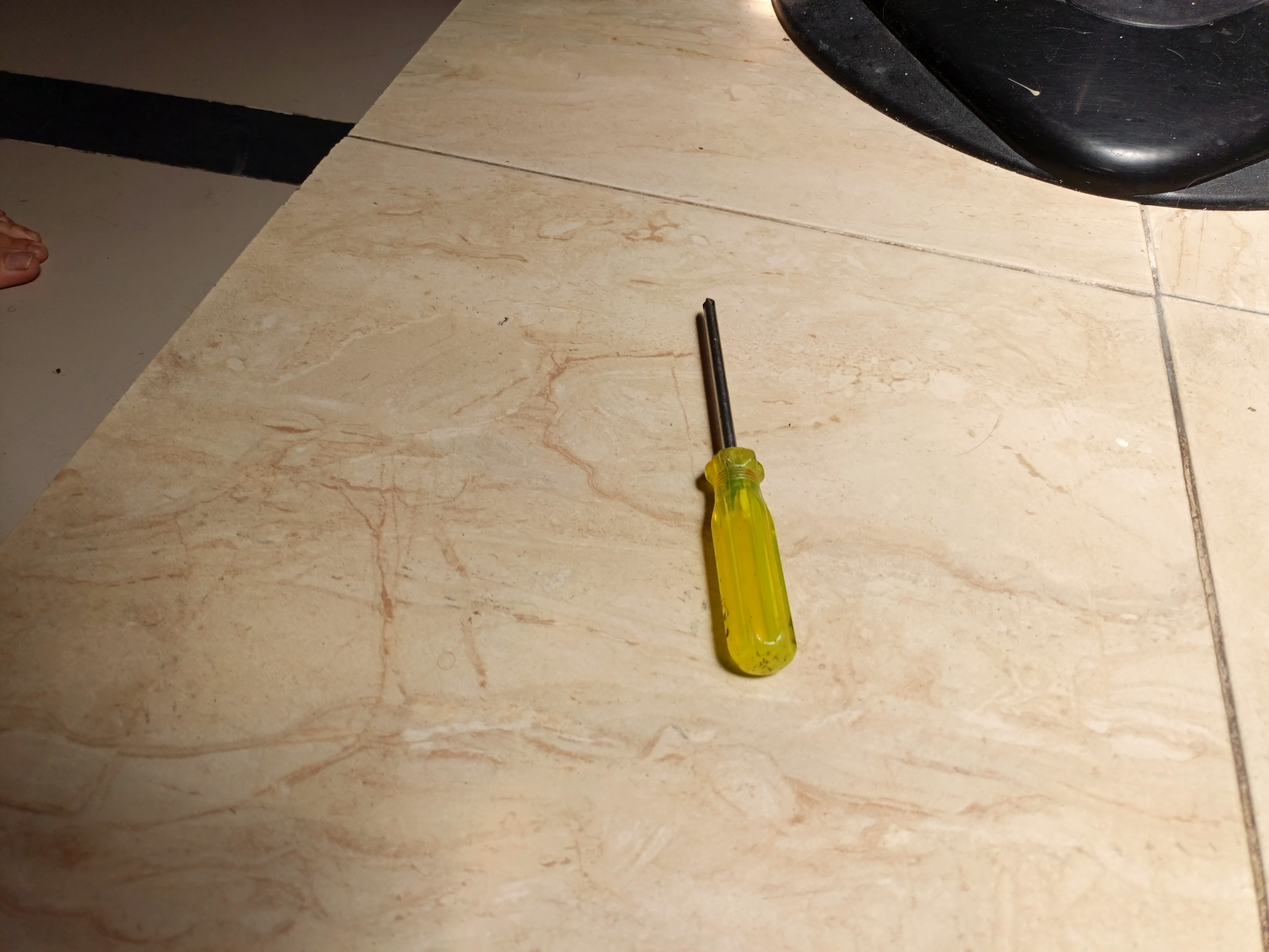Destornillador: (704, 299, 796, 675)
